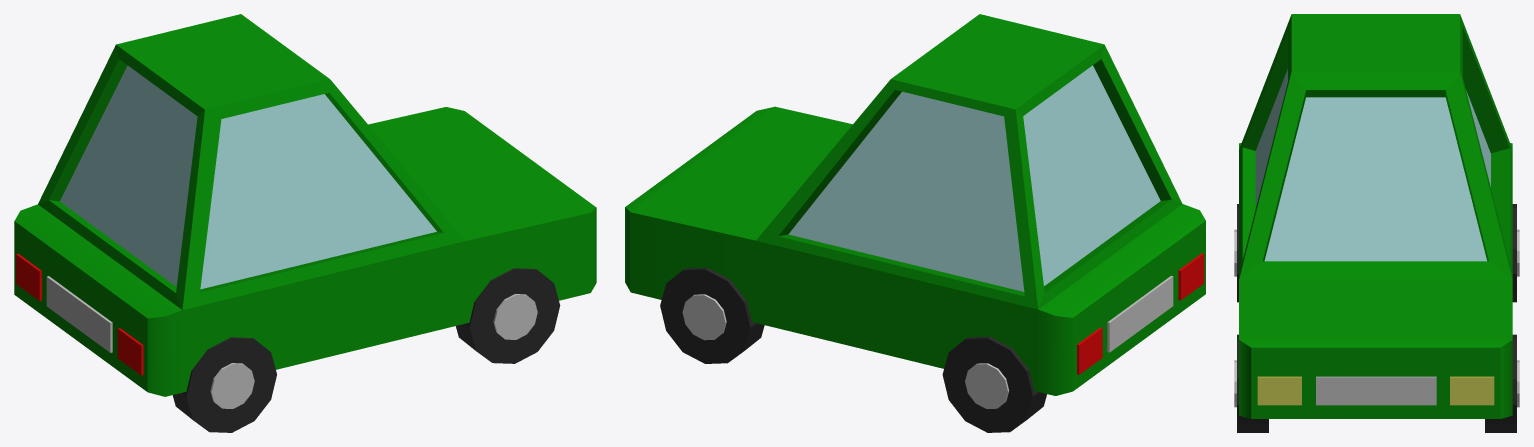
Rendered from Carro4.fbx.
The picture shows the model from 3 angles, left to right: view 1: azimuth 30°, elevation 25°; view 2: azimuth 150°, elevation 25°; view 3: azimuth 270°, elevation 25°; orthographic projection. The views are drawn at different scales.
Visible parts, largest first — view 1: pCube86; view 2: pCube86; view 3: pCube86.
Boxes of the visible parts, x1=… form: pCube86: x1=14, y1=14, x2=596, y2=432; pCube86: x1=625, y1=14, x2=1205, y2=432; pCube86: x1=1234, y1=14, x2=1519, y2=432.
Size of the model in its own units: 3.1 by 1.97 by 1.78.
